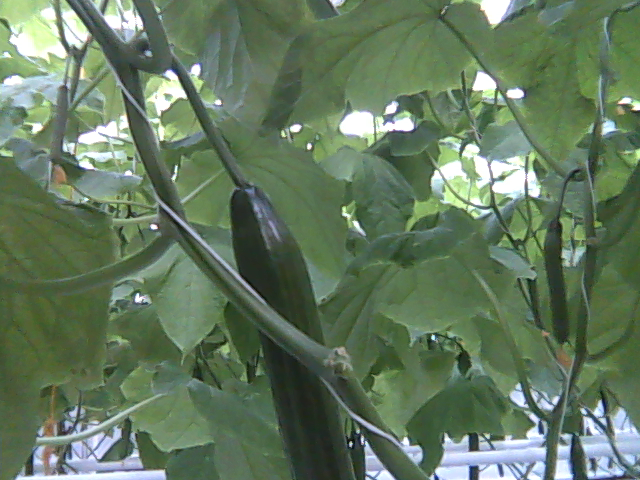concombre: (227, 181, 359, 480)
